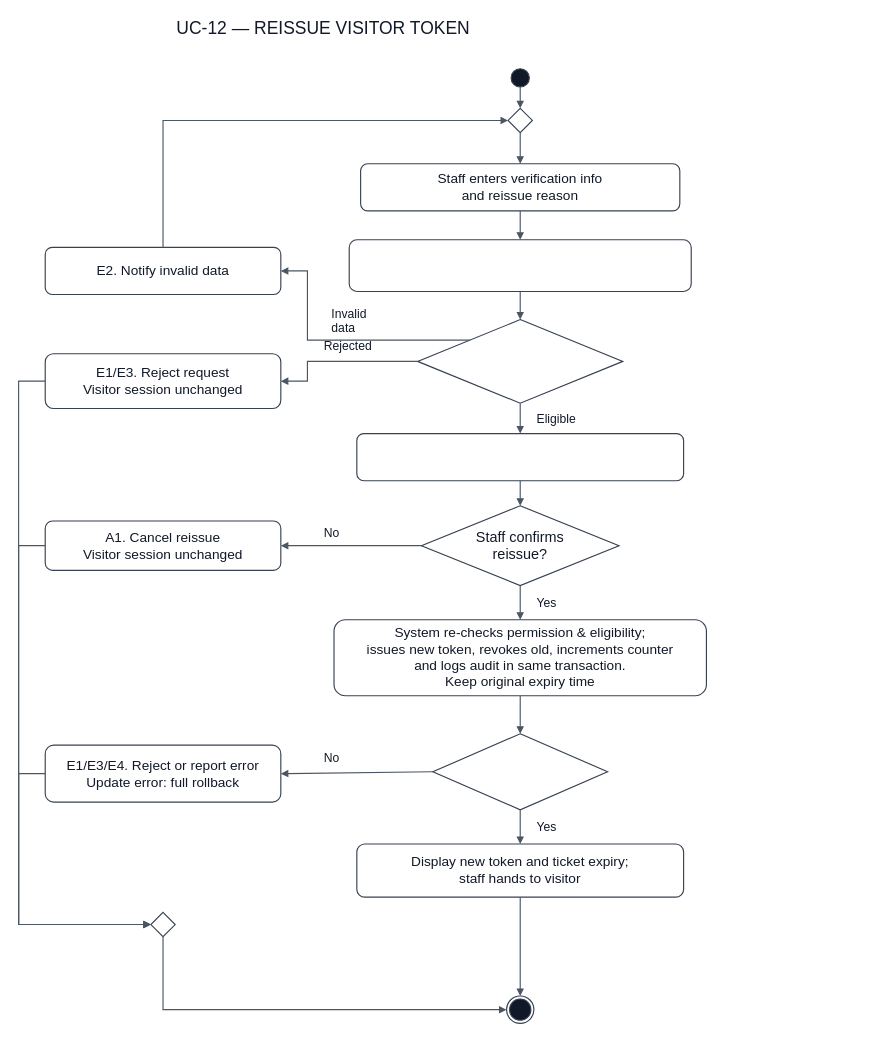
Some shapes in this 888 by 1037 pixel diagram are drawn without their labels. Each missing label, with the centre of its shape:
"Display ticket info, expiry and reissue count" belongs at (x=520, y=457).
"System checks permission, data; matches session and paid transaction" belongs at (x=519, y=265).
"Updated successfully?" belongs at (x=520, y=771).
"Verification result?" belongs at (x=520, y=361).
